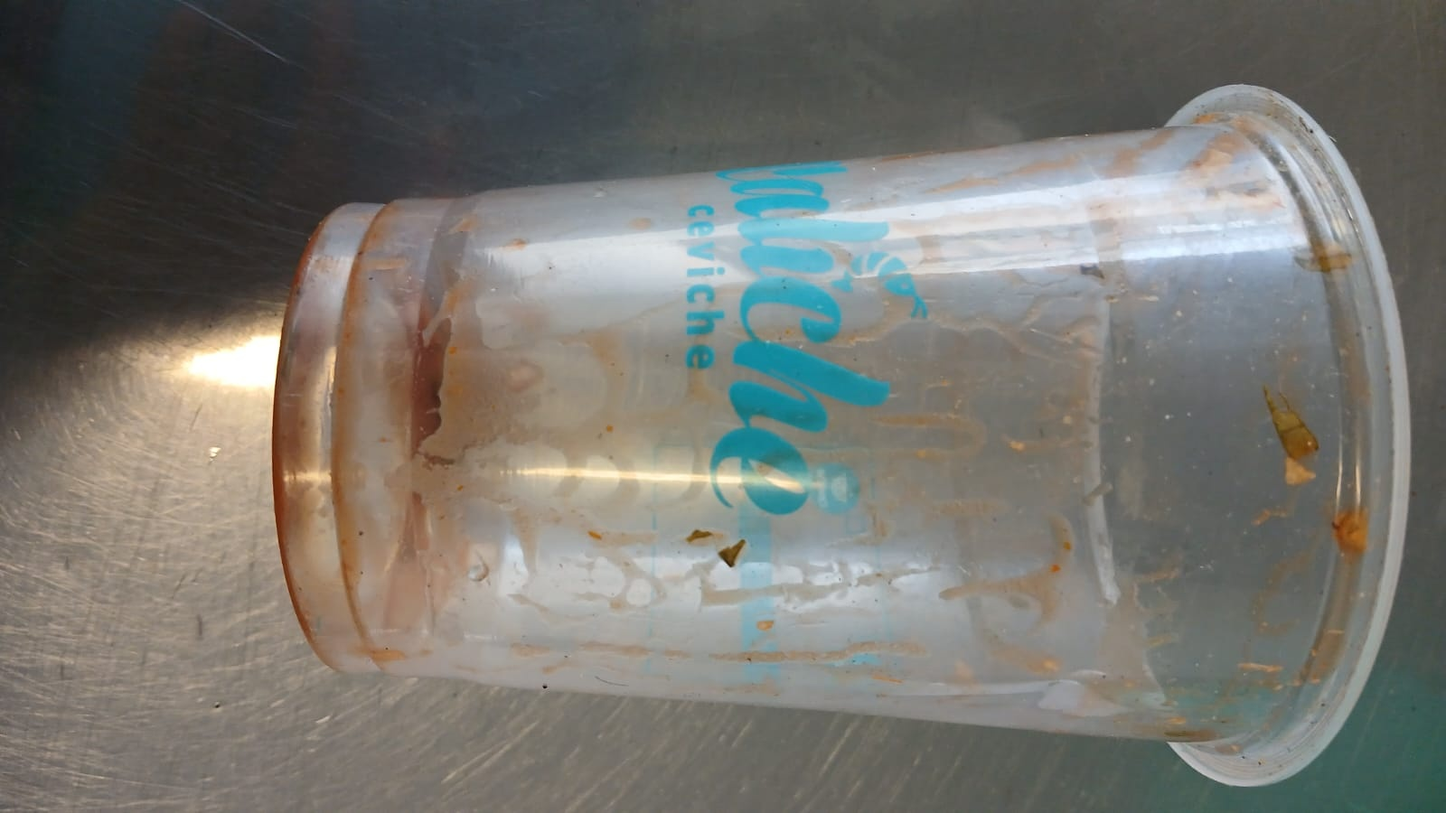Plastico: (270, 81, 1414, 790)
